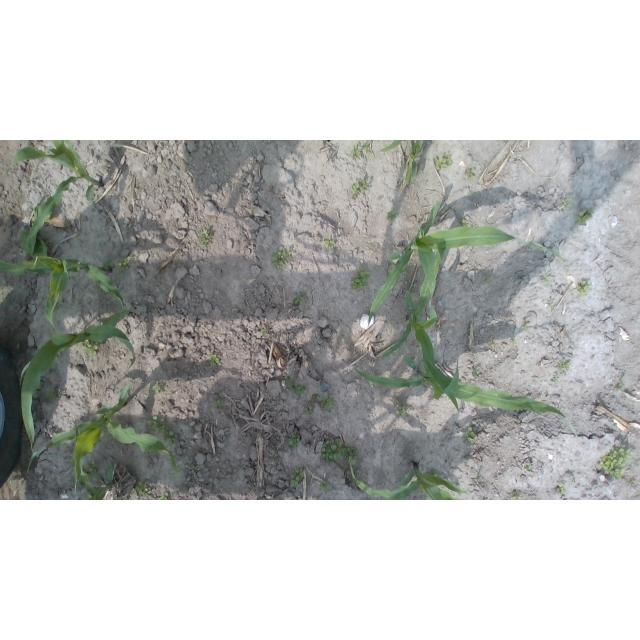Maize: (366, 200, 572, 327), (28, 381, 181, 500), (20, 307, 137, 457), (380, 228, 460, 397), (354, 357, 567, 420), (0, 240, 126, 336), (4, 140, 105, 258), (348, 460, 472, 500), (379, 140, 429, 186)
Weeds: (600, 445, 633, 482), (322, 438, 359, 466), (271, 247, 294, 270), (351, 177, 374, 199), (351, 268, 372, 289), (351, 140, 373, 160), (290, 468, 309, 489), (434, 151, 454, 170), (286, 378, 307, 395), (576, 208, 595, 226), (78, 340, 99, 356), (147, 417, 167, 432), (575, 280, 593, 296), (46, 388, 66, 401), (165, 430, 180, 446), (116, 257, 133, 271), (199, 230, 213, 247), (293, 291, 310, 305), (286, 432, 302, 446), (322, 394, 337, 408), (464, 427, 477, 442), (85, 460, 98, 474), (561, 197, 576, 209), (208, 354, 221, 367), (396, 404, 410, 416), (558, 360, 572, 372), (469, 367, 482, 379), (464, 168, 476, 181), (324, 237, 337, 249), (134, 485, 148, 496), (524, 462, 536, 473), (320, 481, 332, 491), (557, 485, 567, 496), (543, 274, 554, 284), (213, 394, 223, 405), (152, 383, 162, 393), (461, 219, 470, 230), (159, 492, 169, 501), (304, 406, 314, 415), (312, 395, 321, 404), (274, 454, 282, 463), (509, 337, 517, 345), (260, 326, 268, 334), (484, 276, 493, 283), (513, 493, 522, 500), (553, 376, 560, 385), (547, 300, 554, 309), (388, 212, 397, 219), (616, 383, 623, 391), (523, 322, 530, 330), (189, 463, 196, 470), (629, 479, 636, 485)
